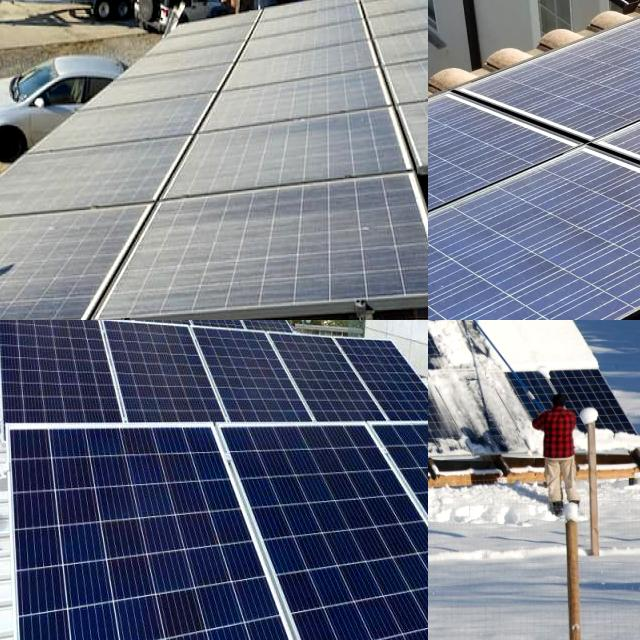crack: (10, 432, 302, 640), (231, 444, 428, 640), (96, 320, 235, 442), (256, 322, 397, 442), (184, 320, 315, 435), (0, 320, 125, 438), (329, 321, 428, 445), (60, 320, 137, 352), (113, 320, 203, 344), (0, 320, 68, 351)
dust: (170, 188, 400, 292), (457, 183, 640, 310), (0, 223, 153, 301), (194, 124, 398, 165), (428, 113, 503, 208), (428, 216, 491, 320), (17, 151, 154, 193), (232, 60, 372, 101), (262, 10, 364, 46), (79, 108, 191, 132), (371, 0, 428, 45), (170, 24, 227, 61), (120, 76, 227, 92)
panel: (428, 375, 540, 448), (428, 394, 515, 470), (466, 320, 598, 370), (428, 320, 495, 368), (578, 405, 630, 453), (428, 359, 454, 449), (428, 422, 444, 475), (428, 320, 465, 333)
